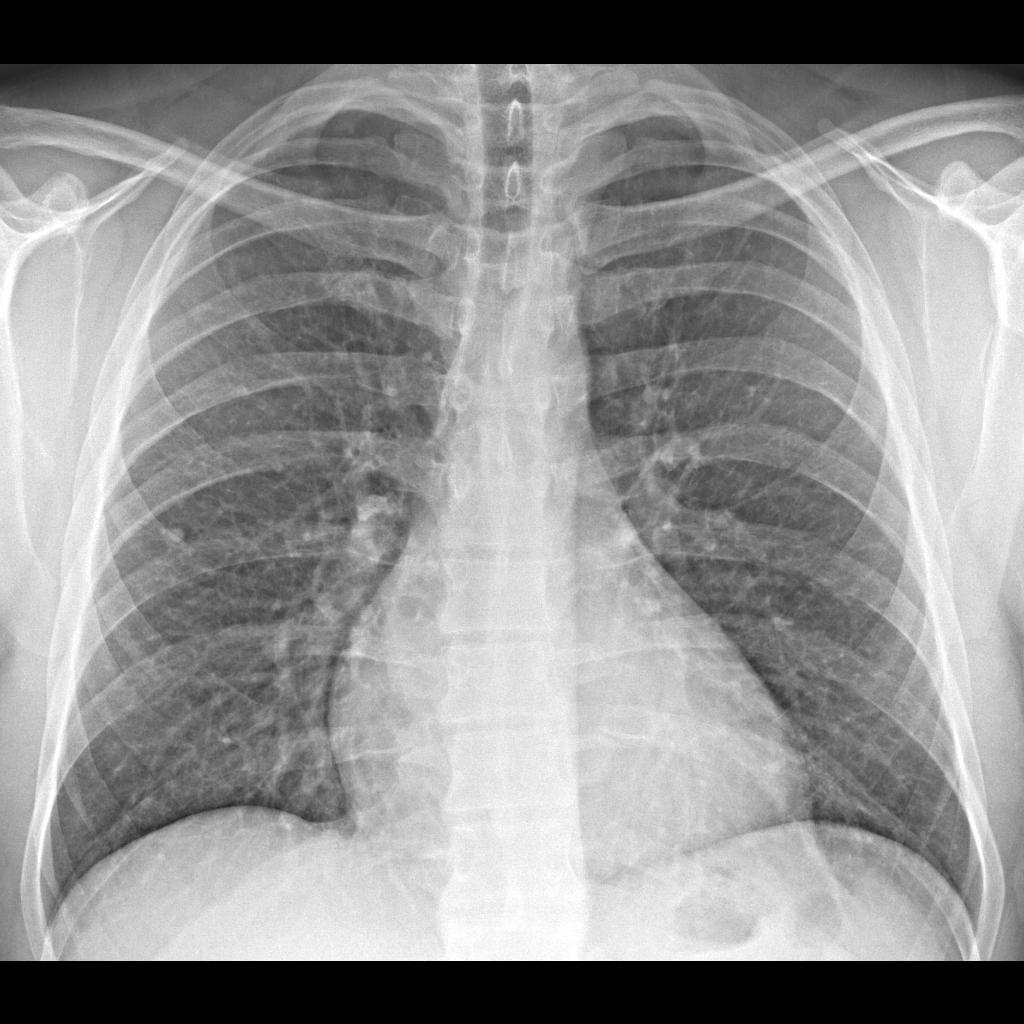Nodule: (148, 510, 197, 564)
